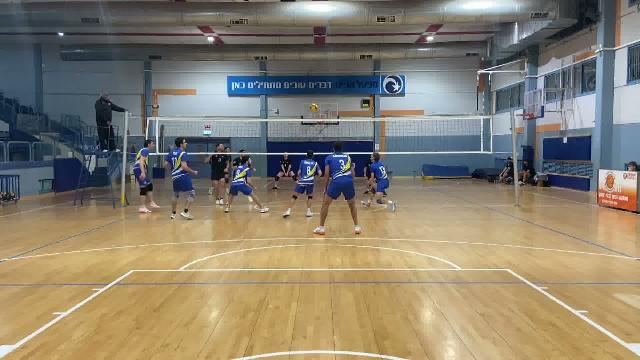ball: (309, 104, 320, 112)
